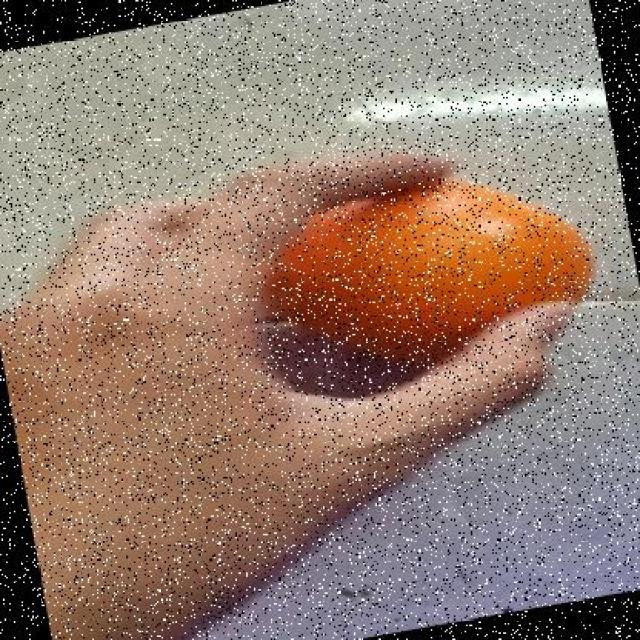Orange: (260, 176, 595, 367)
